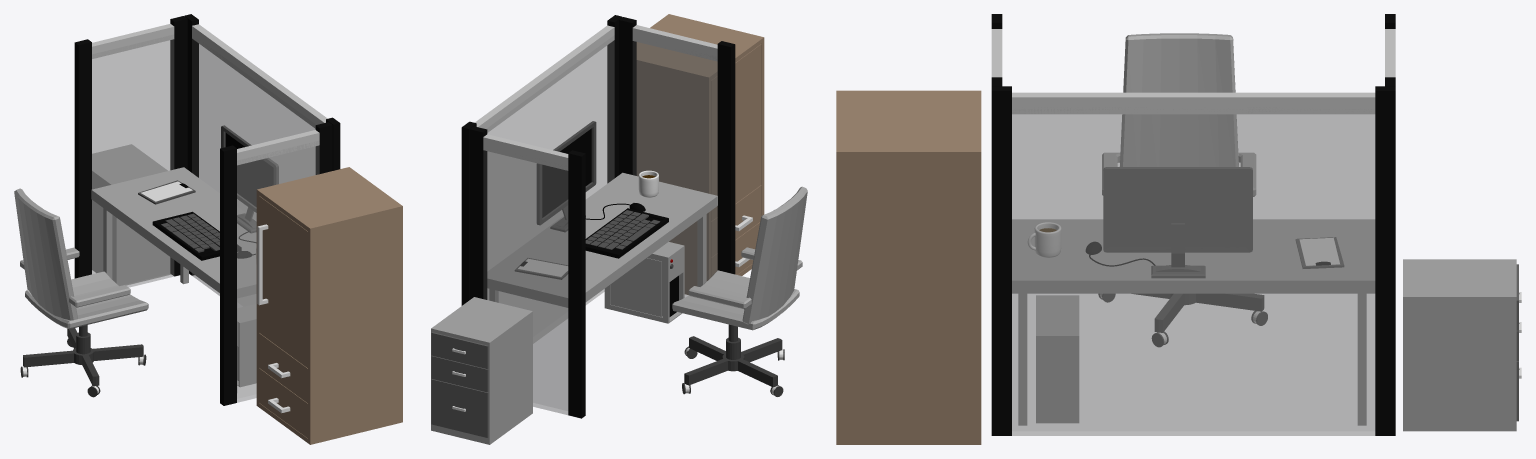
Rendered from _it bureau.fbx.
The picture shows the model from 3 angles, left to right: view 1: azimuth 30°, elevation 25°; view 2: azimuth 150°, elevation 25°; view 3: azimuth 270°, elevation 25°; orthographic projection. The views are drawn at different scales.
Visible parts, largest first — view 1: armoire, pCube125, pCube123, pCube124, chaise_bureau, pCube126, polySurface4, pasted__PC_central1, pasted__clavier, pc, pasted__porte_feuille; view 2: pCube125, pCube124, armoire, pCube123, polySurface4, chaise_bureau, pCube126, pc, pasted__PC_central1, pasted__clavier, pasted__porte_feuille, pasted__tasse; view 3: pCube123, armoire, pCube126, polySurface4, chaise_bureau, pasted__PC_central1, pc, pasted__porte_feuille, pasted__tasse, pCube124, pCube125.
Part boxes in pixels (<box>): armoire: <box>256,167,402,444</box>; pCube125: <box>74,16,187,287</box>; pCube123: <box>184,14,340,307</box>; pCube124: <box>220,122,332,405</box>; chaise_bureau: <box>14,188,148,397</box>; pCube126: <box>91,167,256,392</box>; polySurface4: <box>92,144,170,285</box>; pasted__PC_central1: <box>221,125,278,233</box>; pasted__clavier: <box>152,211,241,260</box>; pc: <box>237,304,256,387</box>; pasted__porte_feuille: <box>138,180,195,204</box>; pCube125: <box>469,126,585,418</box>; pCube124: <box>619,17,735,297</box>; armoire: <box>636,14,764,294</box>; pCube123: <box>461,15,622,343</box>; polySurface4: <box>431,297,532,444</box>; chaise_bureau: <box>672,186,807,396</box>; pCube126: <box>487,172,717,307</box>; pc: <box>604,242,684,323</box>; pasted__PC_central1: <box>536,121,596,232</box>; pasted__clavier: <box>585,208,668,258</box>; pasted__porte_feuille: <box>514,258,568,279</box>; pasted__tasse: <box>638,170,658,197</box>; pCube123: <box>991,86,1395,435</box>; armoire: <box>836,90,981,444</box>; pCube126: <box>1012,219,1375,425</box>; polySurface4: <box>1403,259,1521,431</box>; chaise_bureau: <box>1098,33,1267,347</box>; pasted__PC_central1: <box>1103,167,1252,278</box>; pc: <box>1036,295,1079,423</box>; pasted__porte_feuille: <box>1295,237,1344,268</box>; pasted__tasse: <box>1027,222,1061,257</box>; pCube124: <box>991,14,1002,86</box>; pCube125: <box>1385,14,1395,86</box>.
Bounding box in the file's own units: 2.66 × 2.67 × 4.73.
